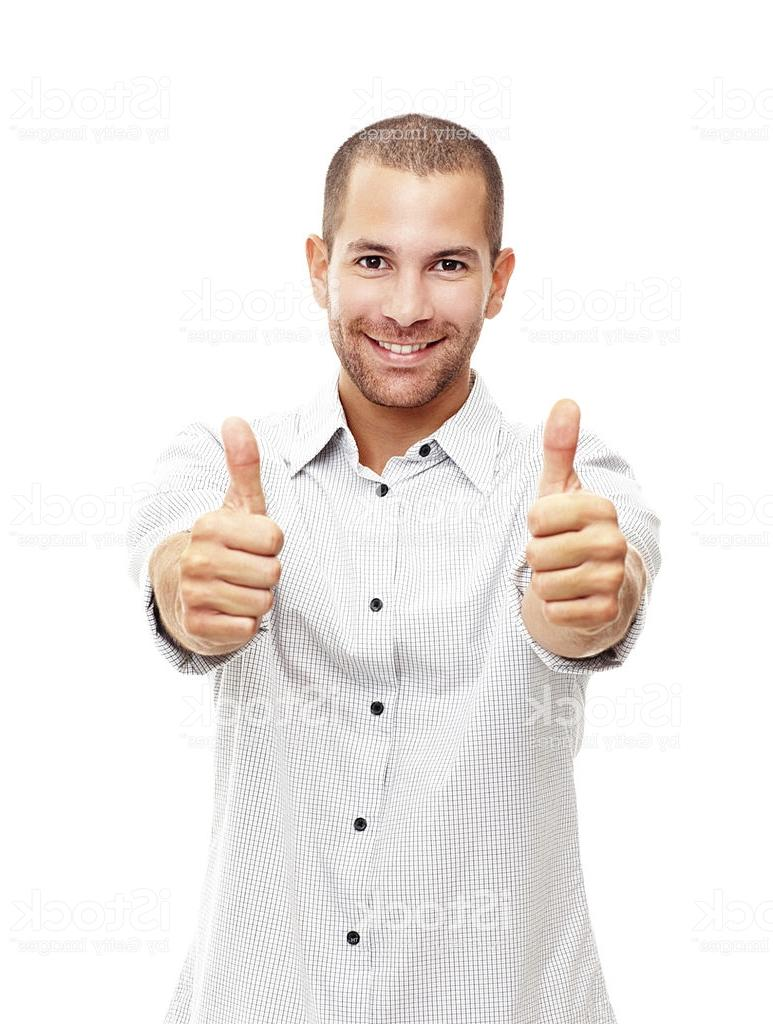thumbsup: (175, 415, 288, 653), (525, 396, 629, 633)
